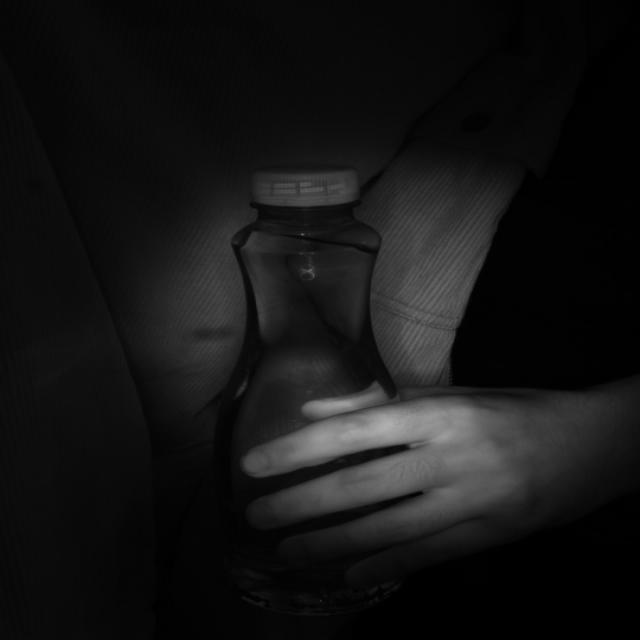Good: (248, 168, 366, 207)
